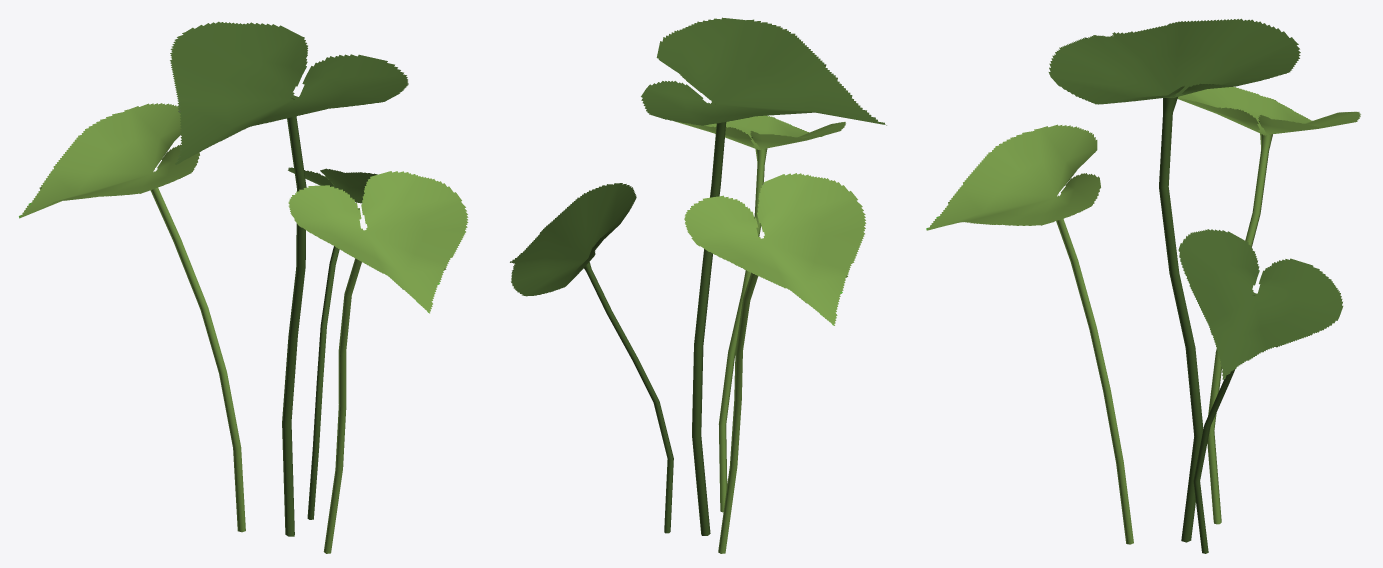
Rendered from Swamp_Calla_3.gltf.
3 views of the same model, side by side, from view 1: azimuth 30°, elevation 25°; view 2: azimuth 150°, elevation 25°; view 3: azimuth 270°, elevation 25° (orthographic). The views are drawn at different scales.
Visible parts, largest first — view 1: Swamp_Calla_3; view 2: Swamp_Calla_3; view 3: Swamp_Calla_3.
Part boxes in pixels (box(x1,y1,x2,y2)): Swamp_Calla_3: box(19, 21, 468, 553); Swamp_Calla_3: box(510, 17, 886, 553); Swamp_Calla_3: box(926, 18, 1360, 553).
Bounding box in the file's own units: 37.52 × 43.92 × 36.96.
1 material, 1 textured.
